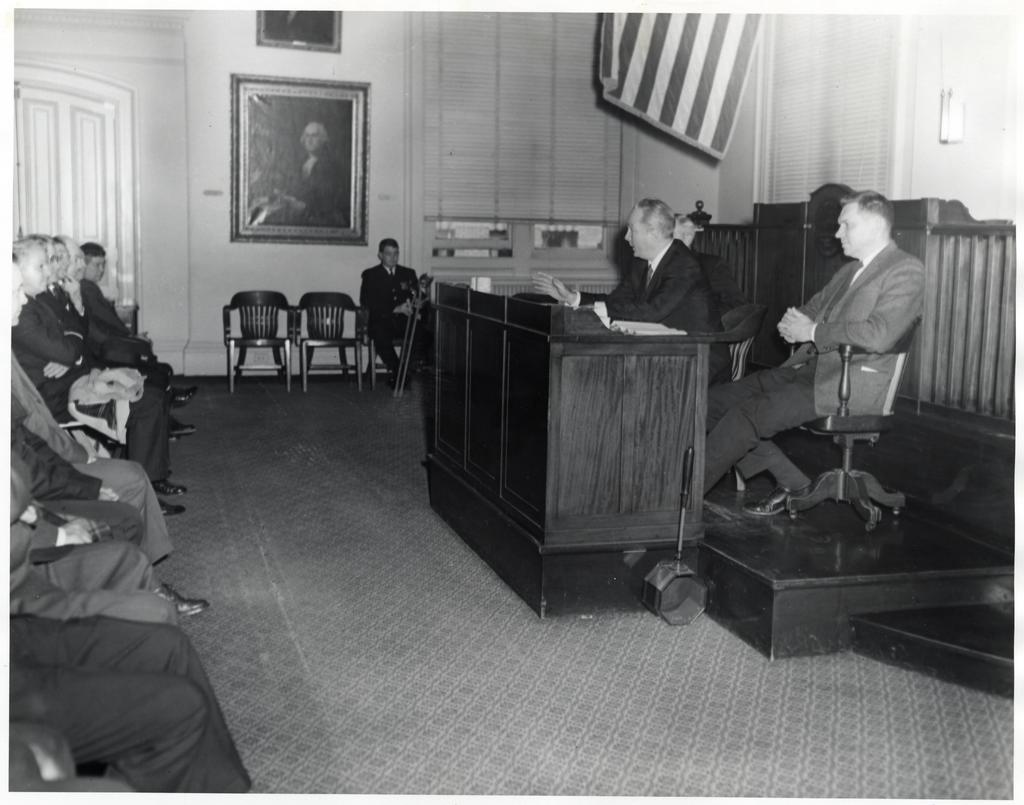Chair: (787, 316, 915, 527), (200, 290, 290, 386), (296, 289, 363, 389), (719, 297, 767, 379)
